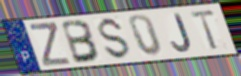0: (128, 14, 164, 59)
B: (60, 19, 102, 65)
J: (169, 12, 193, 54)
S: (97, 15, 133, 61)
T: (189, 8, 221, 52)
Z: (28, 21, 74, 68)
